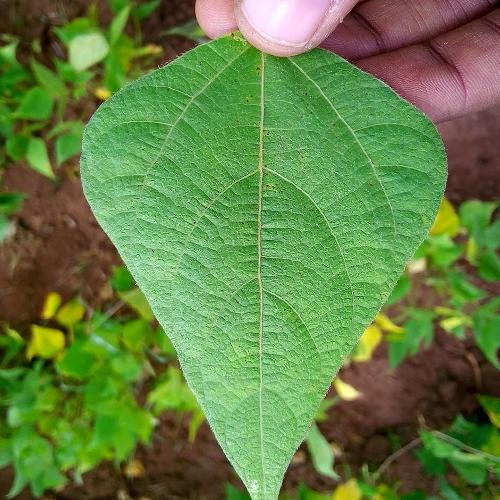sehat: (138, 72, 348, 403)
